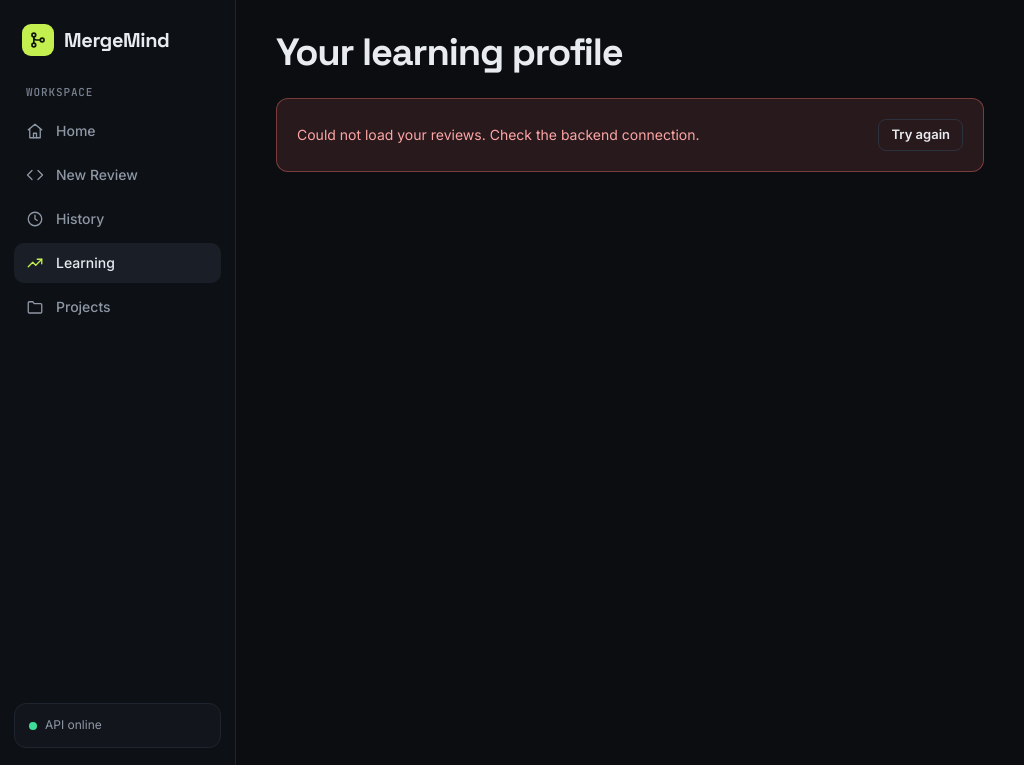
Test: Learning profile › shows an error state with retry
The image size is (1024, 765).
Click the button "Try again": coordinates (921, 135) 878,119 -> 963,151
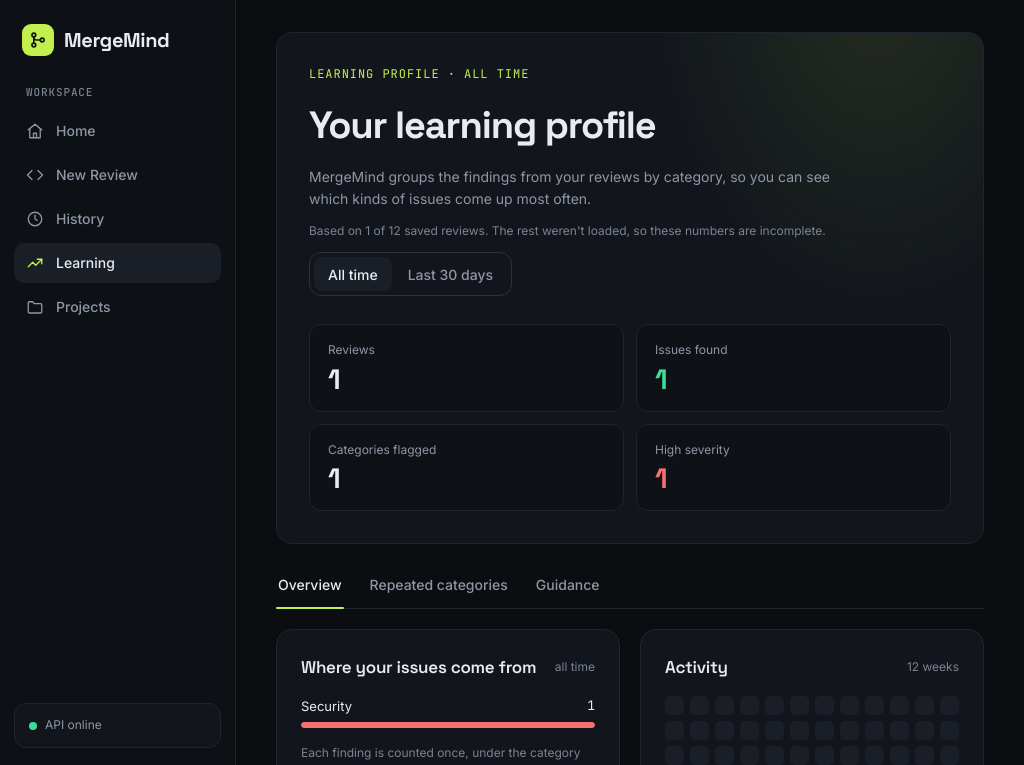
Now the text "Based on 1 of 12 saved reviews" is shown, box 309,223 -> 826,238
